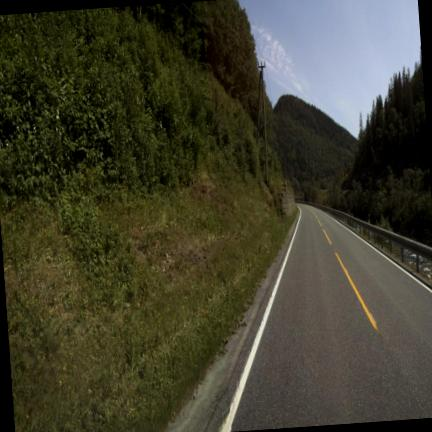Road: (231, 205, 431, 430)
